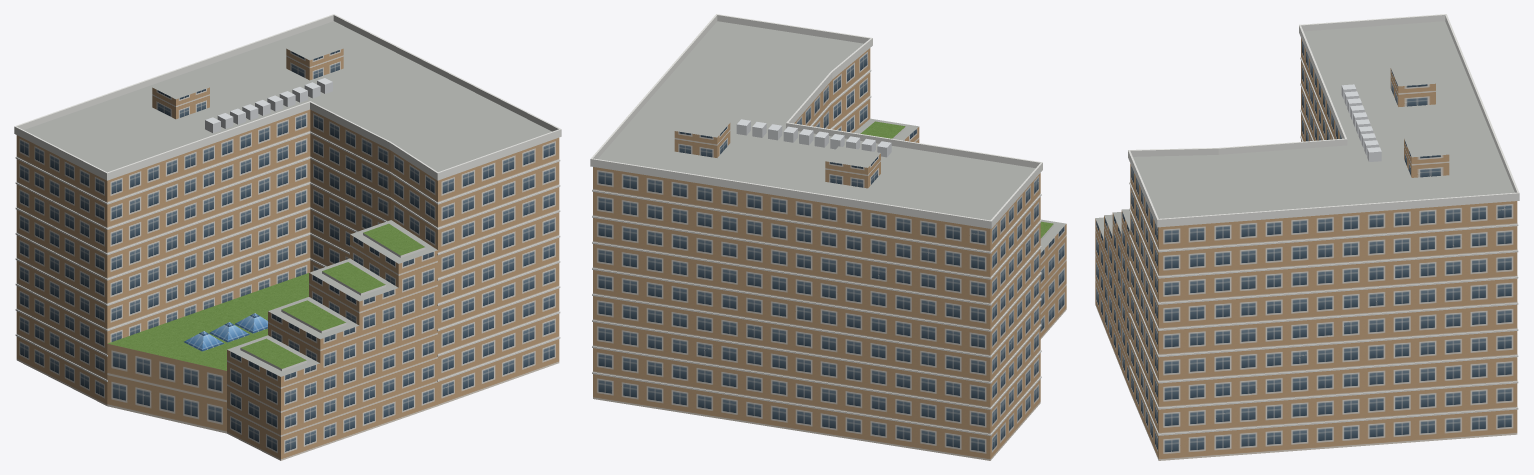
The model's file is oufanglou.glb.
The picture shows the model from 3 angles, left to right: view 1: azimuth 30°, elevation 25°; view 2: azimuth 150°, elevation 25°; view 3: azimuth 270°, elevation 25°; orthographic projection. The views are drawn at different scales.
Parts seen in each view (by area): view 1: 藕舫楼_主楼, 藕舫楼_退台; view 2: 藕舫楼_主楼, 藕舫楼_退台; view 3: 藕舫楼_主楼, 藕舫楼_退台.
Part boxes in pixels (x1,y1,x2,y2): 藕舫楼_主楼: (14, 14, 561, 433); 藕舫楼_退台: (227, 220, 437, 460); 藕舫楼_主楼: (590, 14, 1042, 460); 藕舫楼_退台: (853, 118, 1066, 339); 藕舫楼_主楼: (1128, 14, 1519, 460); 藕舫楼_退台: (1095, 209, 1130, 392).
Bounding box in the file's own units: 64.01 × 37.2 × 55.75.
6 materials, 3 textured.
